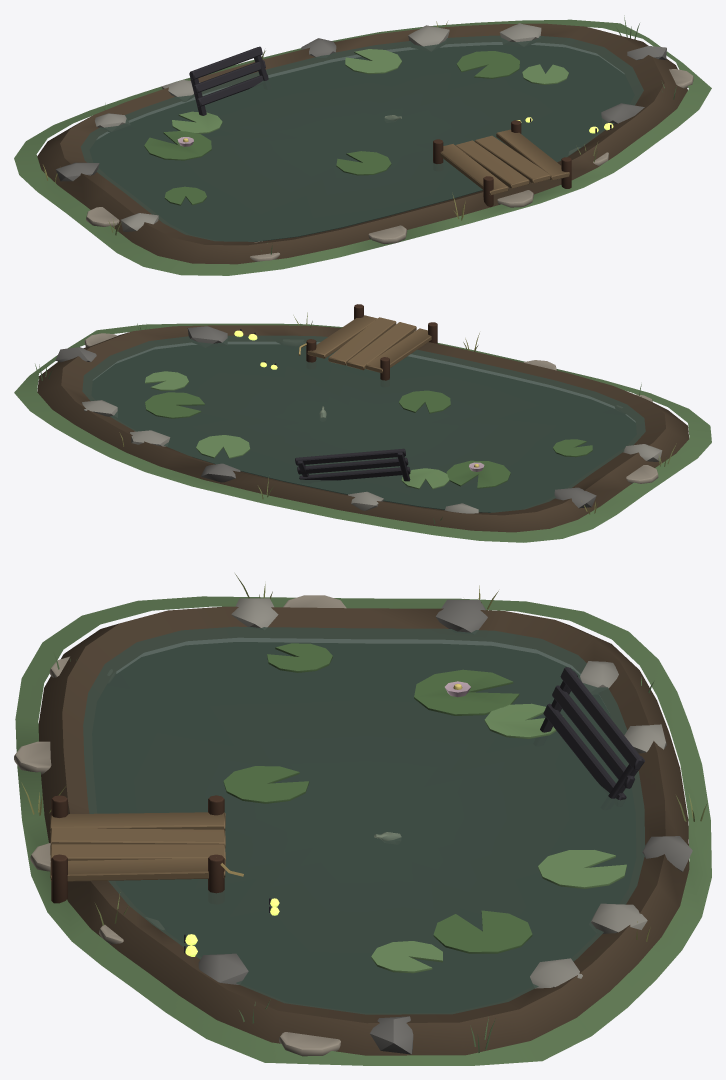
The model's file is pond_murky.glb.
The picture shows the model from 3 angles, top to bottom: view 1: azimuth 30°, elevation 25°; view 2: azimuth 150°, elevation 25°; view 3: azimuth 270°, elevation 25°; orthographic projection. The views are drawn at different scales.
Parts seen in each view (by area): view 1: water, pond_murky; view 2: water, pond_murky; view 3: water, pond_murky.
Boxes of the visible parts, left/top/right/bottom form: water: left=80, top=35, right=643, bottom=241; pond_murky: left=14, top=15, right=711, bottom=275; water: left=82, top=335, right=645, bottom=512; pond_murky: left=14, top=304, right=711, bottom=542; water: left=83, top=626, right=645, bottom=1014; pond_murky: left=14, top=574, right=711, bottom=1065.
Bounding box in the file's own units: 6.67 × 0.5031 × 4.19.
